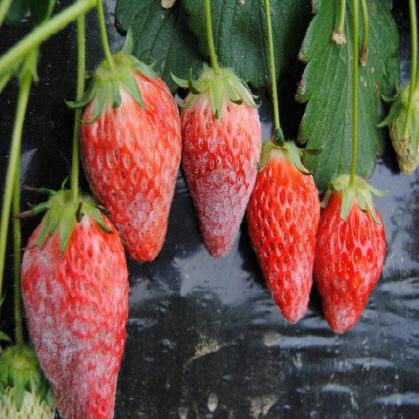Powdery Mildew Fruit: (18, 190, 129, 418), (77, 56, 181, 263), (177, 65, 263, 259), (313, 231, 381, 336), (255, 231, 318, 325)
